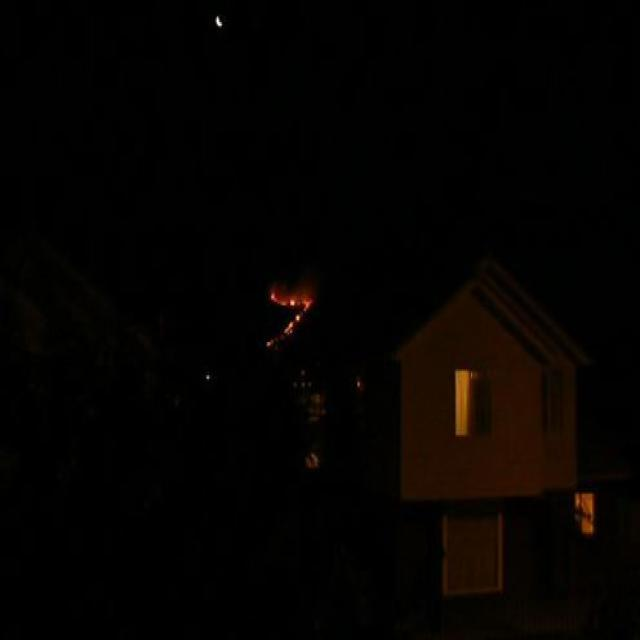Fire: (270, 285, 314, 307), (283, 314, 302, 336), (266, 338, 274, 348)
